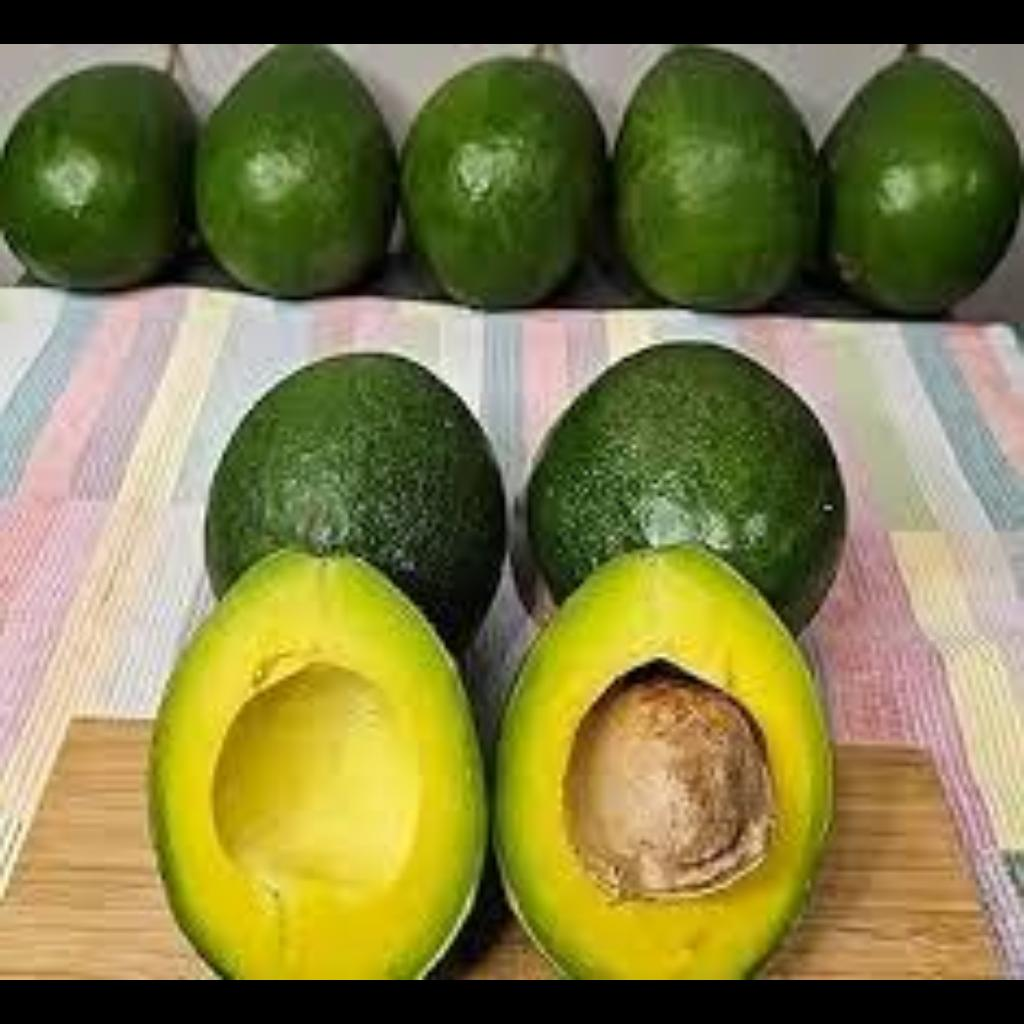antracnosis_fruto: (305, 412, 497, 560)
